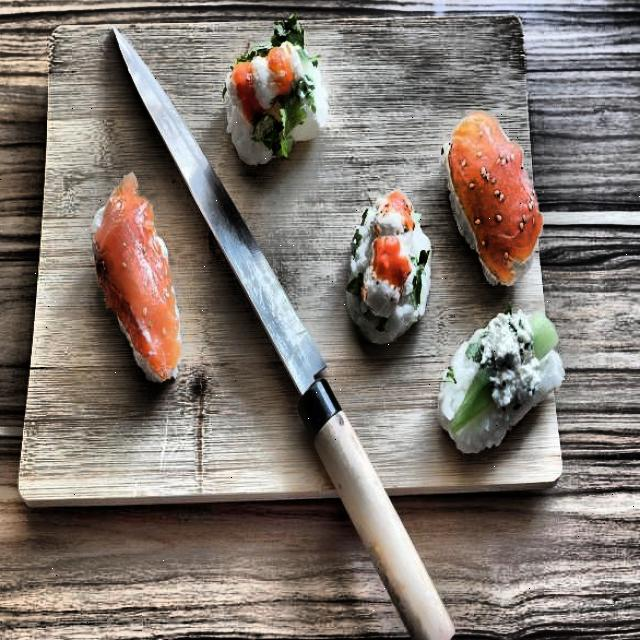knife: (110, 27, 460, 640)
